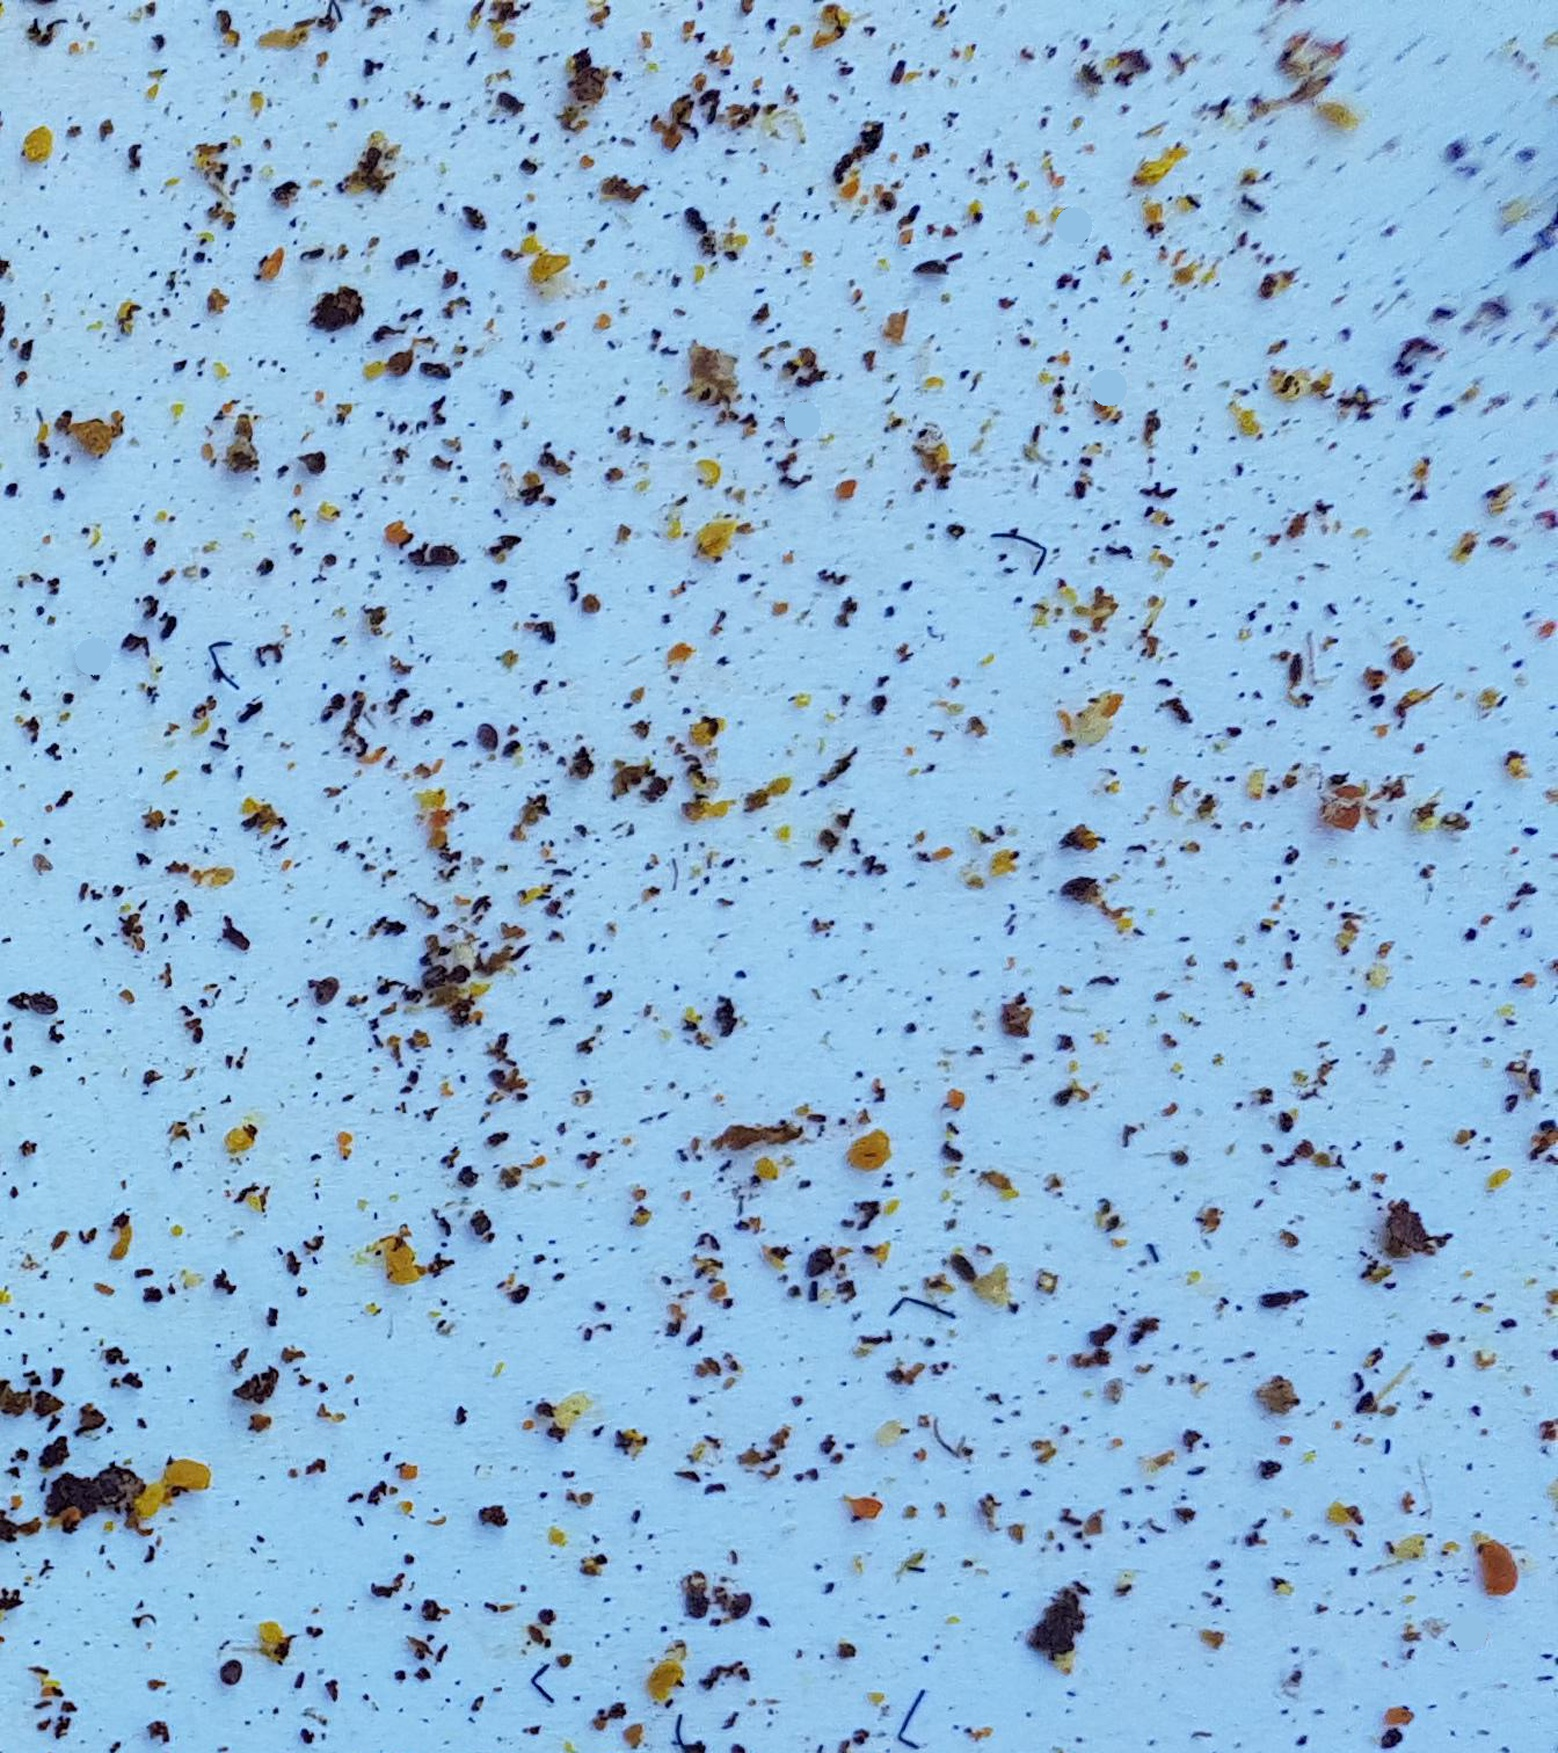Varroa: (423, 535, 465, 577), (677, 1583, 719, 1625), (725, 1582, 759, 1621), (308, 983, 343, 1021), (214, 1649, 247, 1685), (471, 719, 504, 755), (26, 989, 62, 1022)
